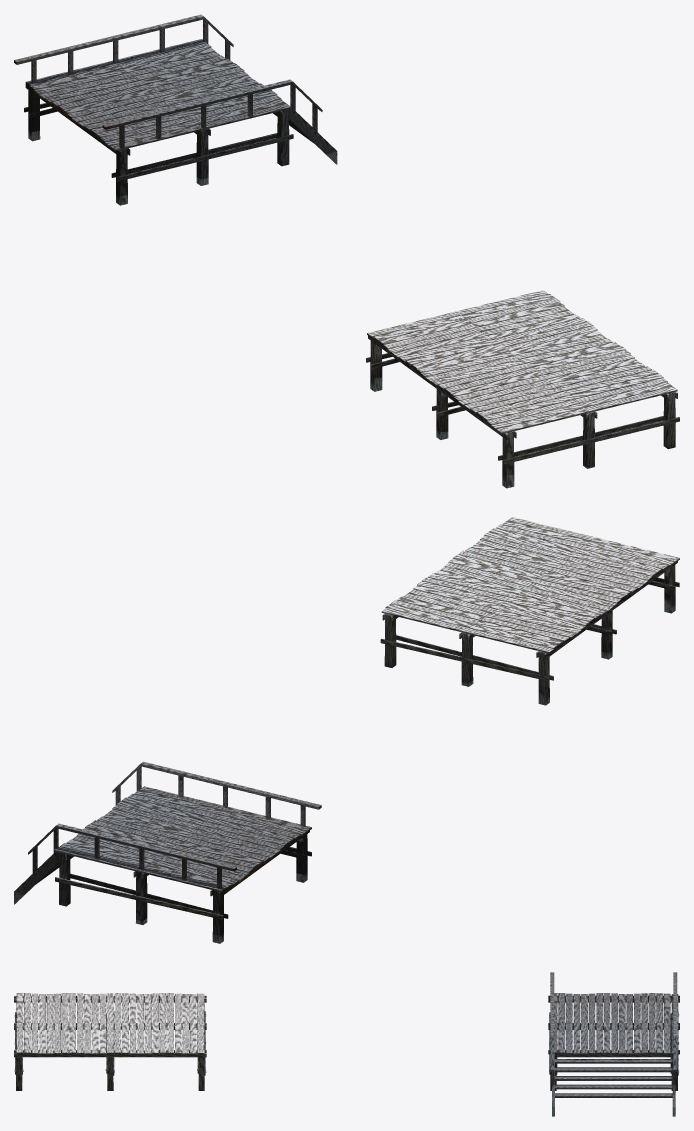
File: stairs.glb
3 renders of one model, top to bottom at view 1: azimuth 30°, elevation 25°; view 2: azimuth 150°, elevation 25°; view 3: azimuth 270°, elevation 25°, orthographic. The views are drawn at different scales.
Visible parts, largest first — view 1: Wooden Platforms_0, StairsPlatform.Backroom.002; view 2: Wooden Platforms_0, StairsPlatform.Backroom.002; view 3: Wooden Platforms_0, StairsPlatform.Backroom.002.
Boxes of the visible parts, left/top/right/bottom form: Wooden Platforms_0: left=366, top=290, right=679, bottom=488; StairsPlatform.Backroom.002: left=14, top=14, right=337, bottom=205; Wooden Platforms_0: left=380, top=517, right=679, bottom=705; StairsPlatform.Backroom.002: left=14, top=761, right=321, bottom=943; Wooden Platforms_0: left=14, top=993, right=206, bottom=1090; StairsPlatform.Backroom.002: left=548, top=972, right=679, bottom=1116.
Size of the model in its own units: 7.98 by 3.12 by 28.63.
2 materials, 2 textured.
